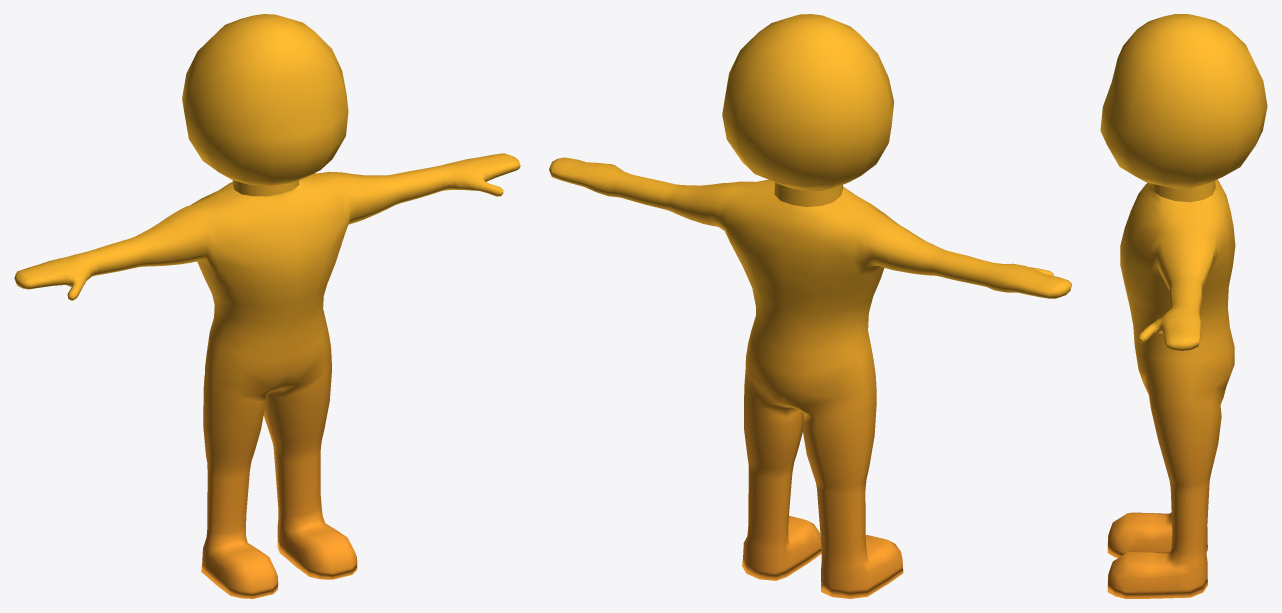
The model's file is Player.fbx.
The picture shows the model from 3 angles, left to right: view 1: azimuth 30°, elevation 25°; view 2: azimuth 150°, elevation 25°; view 3: azimuth 270°, elevation 25°; orthographic projection. The views are drawn at different scales.
Parts seen in each view (by area): view 1: Player; view 2: Player; view 3: Player.
Part boxes in pixels (x1,y1,x2,y2): Player: [14, 14, 520, 598]; Player: [549, 14, 1071, 598]; Player: [1100, 14, 1267, 598].
Size of the model in its own units: 6.71 by 6.91 by 1.92.
1 material, 1 textured.
